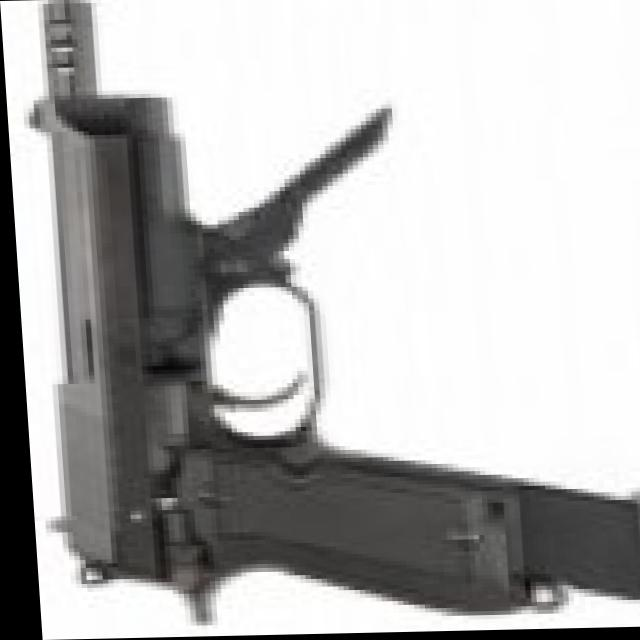handgun: (10, 75, 534, 624)
